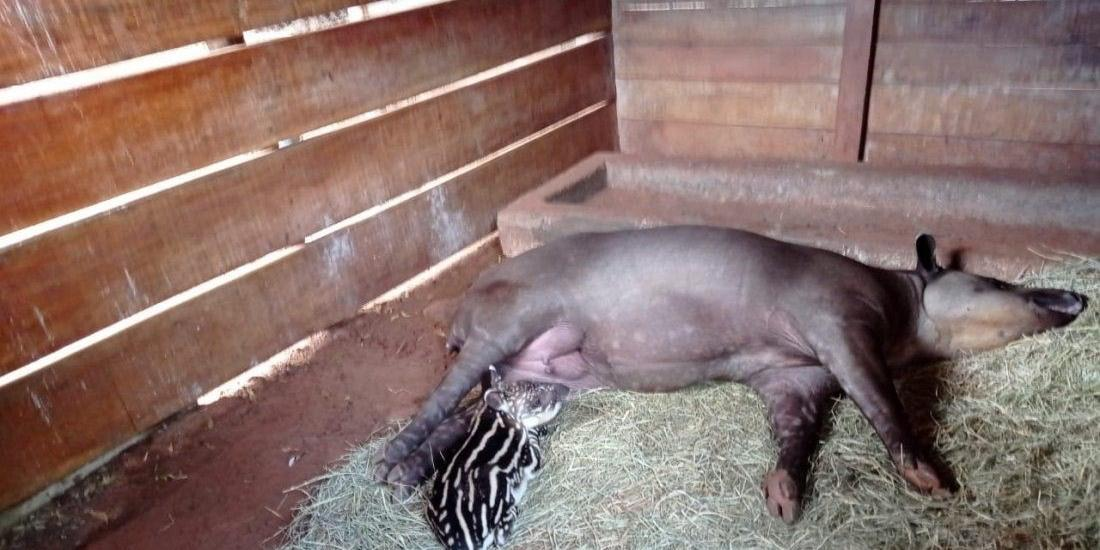Anta: (367, 219, 1092, 516), (418, 360, 577, 548)
